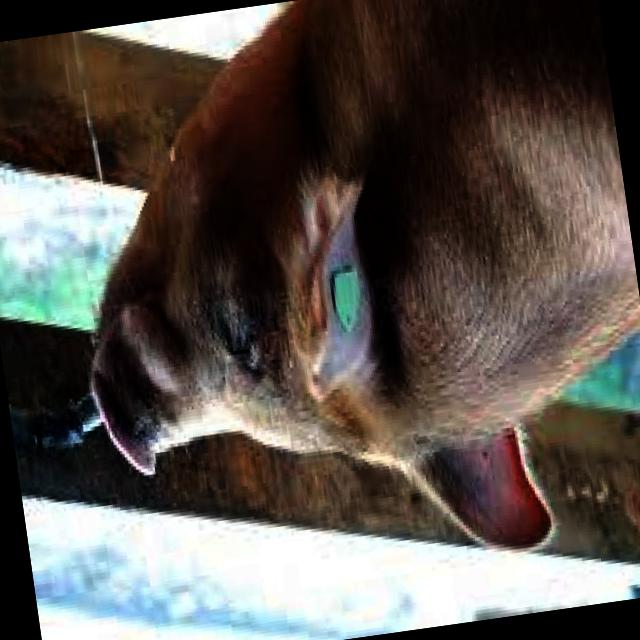pig: (93, 0, 640, 547)
